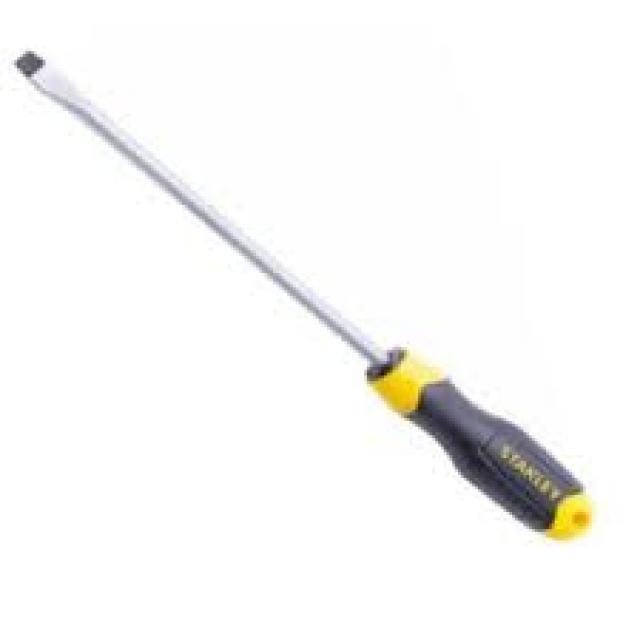screwdriver: (5, 43, 598, 550)
